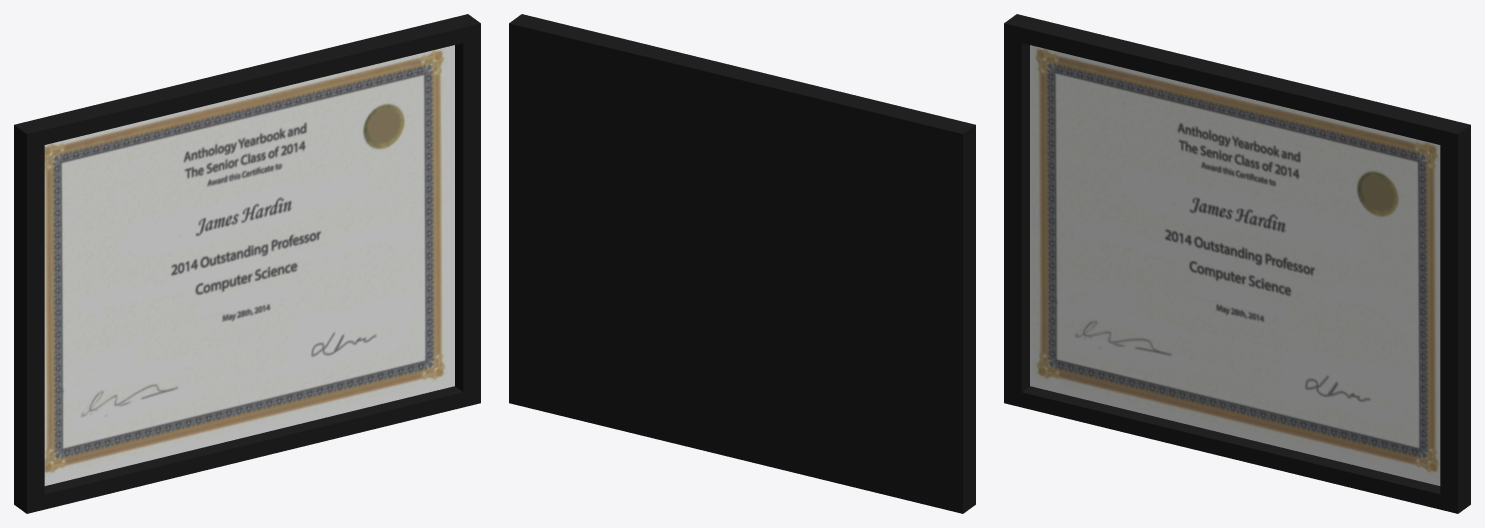
File: Certificate 1.FBX
3 renders of one model, left to right at view 1: azimuth 30°, elevation 25°; view 2: azimuth 150°, elevation 25°; view 3: azimuth 330°, elevation 25°, orthographic.
Parts seen in each view (by area): view 1: Certificate 1; view 2: Certificate 1; view 3: Certificate 1.
Part boxes in pixels (bbox=[...]): Certificate 1: bbox=[14, 14, 480, 513]; Certificate 1: bbox=[509, 14, 975, 513]; Certificate 1: bbox=[1004, 14, 1470, 513].
Size of the model in its own units: 46.61 by 37.25 by 2.29.
1 material, 1 textured.
